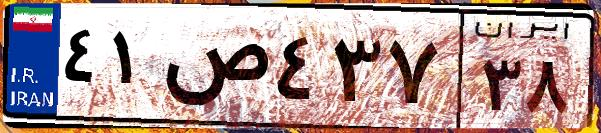1: (110, 28, 158, 98)
3: (330, 28, 385, 110), (475, 38, 525, 113)
4: (270, 28, 330, 110), (57, 26, 110, 100)
7: (385, 28, 445, 110)
8: (525, 38, 570, 115)
ص: (158, 20, 270, 120)
